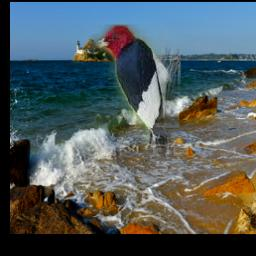Woodpecker: (89, 25, 181, 161)
